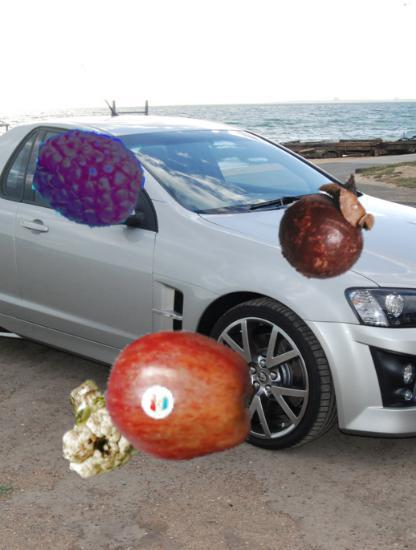Apple: (105, 321, 255, 471)
Cauliflower: (50, 374, 153, 477)
Mangostan: (275, 176, 385, 286)
Raspberry: (34, 125, 144, 235)
